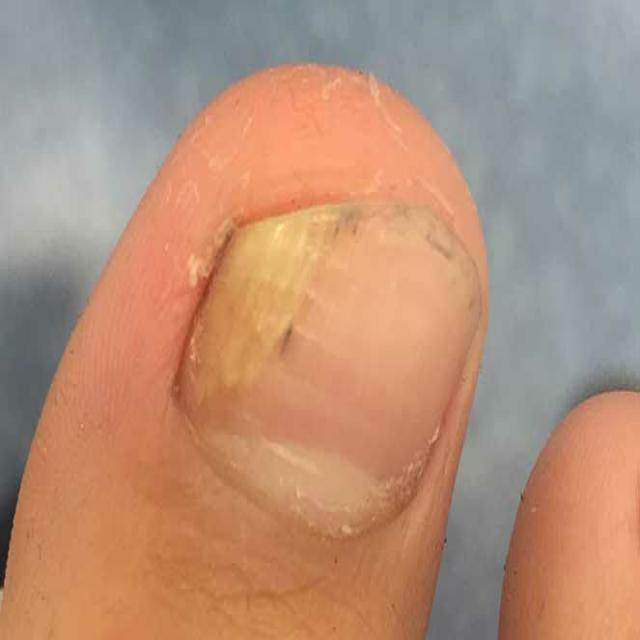diabetes: (175, 202, 484, 536)
